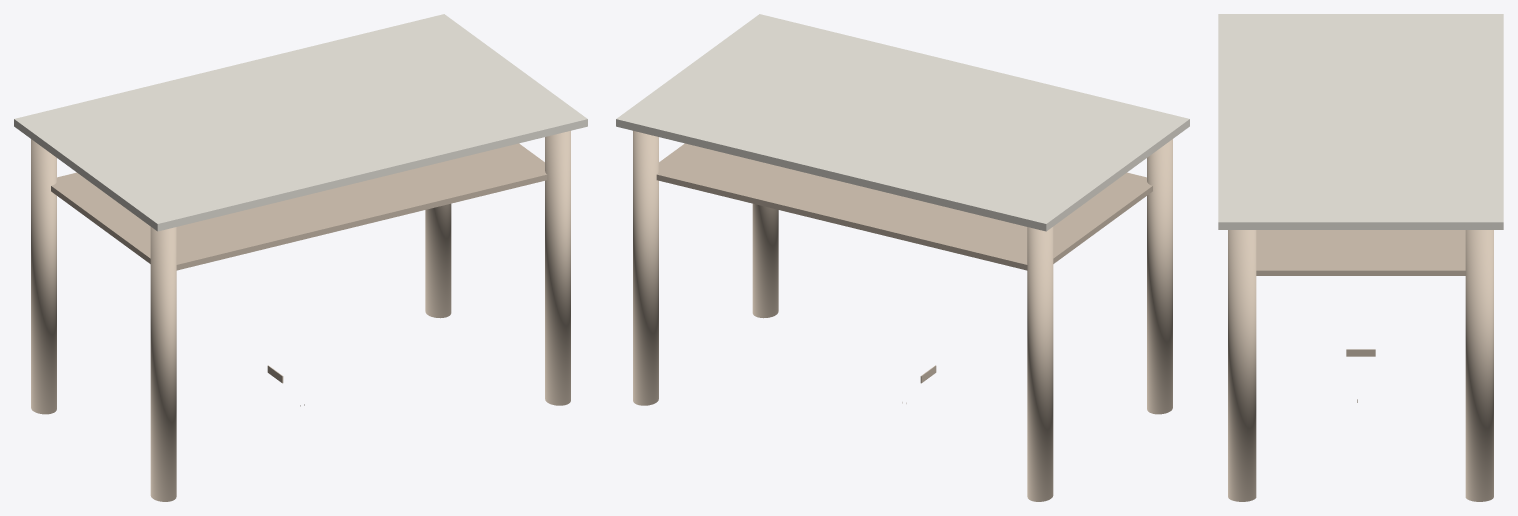
The model's file is mesa (1).fbx.
3 renders of one model, left to right at view 1: azimuth 30°, elevation 25°; view 2: azimuth 150°, elevation 25°; view 3: azimuth 270°, elevation 25°, orthographic.
Parts seen in each view (by area): view 1: Mesa_Tapa, Mesa_Estante, Mesa_Pata, Mesa_Pata.002, Mesa_Pata.001, Mesa_Pata.003; view 2: Mesa_Tapa, Mesa_Estante, Mesa_Pata.001, Mesa_Pata.003, Mesa_Pata, Mesa_Pata.002; view 3: Mesa_Tapa, Mesa_Estante, Mesa_Pata.002, Mesa_Pata.003.
Boxes of the visible parts, <box> form: Mesa_Tapa: <box>14,14,587,231</box>; Mesa_Estante: <box>51,143,547,270</box>; Mesa_Pata: <box>150,227,176,501</box>; Mesa_Pata.002: <box>545,131,570,405</box>; Mesa_Pata.001: <box>31,139,56,414</box>; Mesa_Pata.003: <box>425,203,451,318</box>; Mesa_Tapa: <box>616,14,1189,231</box>; Mesa_Estante: <box>656,143,1152,270</box>; Mesa_Pata.001: <box>1027,227,1053,501</box>; Mesa_Pata.003: <box>633,131,658,405</box>; Mesa_Pata: <box>1147,139,1172,414</box>; Mesa_Pata.002: <box>752,203,778,318</box>; Mesa_Tapa: <box>1218,14,1503,229</box>; Mesa_Estante: <box>1256,230,1465,275</box>; Mesa_Pata.002: <box>1228,230,1256,501</box>; Mesa_Pata.003: <box>1465,230,1493,501</box>.
Size of the model in its own units: 841 by 535 by 486.
